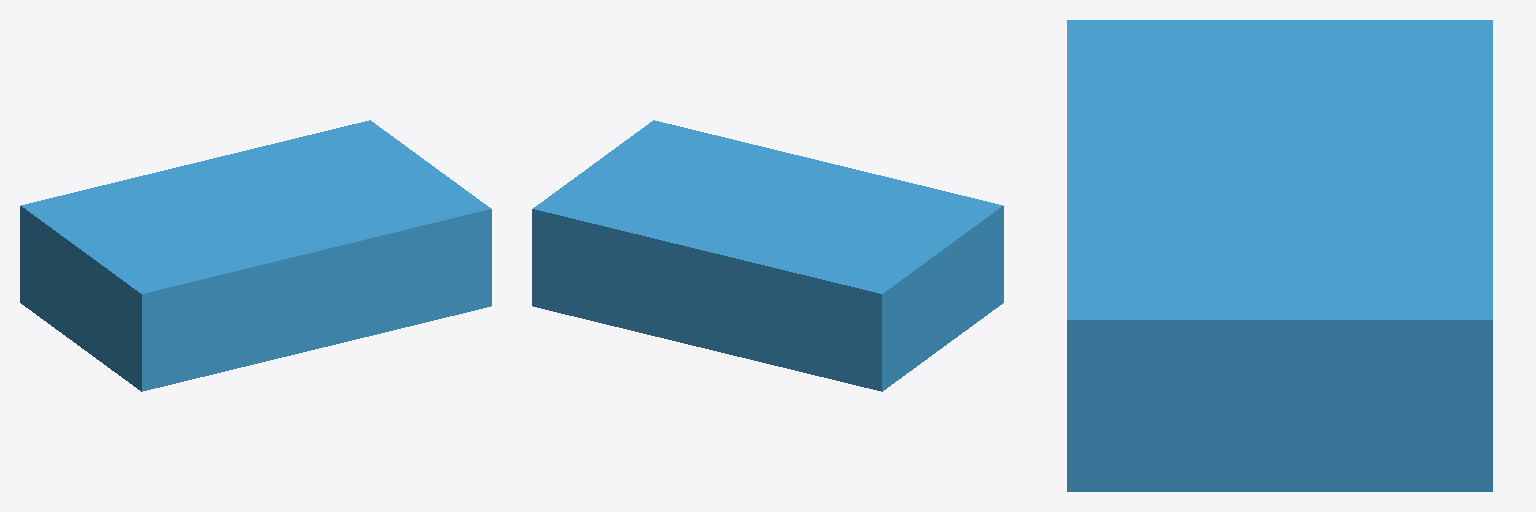
The robot description file, URDF, robot "ground_skeleton":
<?xml version="1.0"?>
<robot name="ground_skeleton">
    <link name="world" />
    <link name="ground_link">
        <inertial>
            <mass value="1.0" />
            <origin xyz="0.2 0 -0.2" rpy="0 0 0" />
            <inertia ixx="1.0" ixy="0" ixz="0" iyy="1.0" iyz="0" izz="1.0" />
        </inertial>
        <visual>
            <origin xyz="0.2 0 -0.2" rpy="0 -0 0" />
            <geometry>
                <mesh filename="./plane.obj"/>
            </geometry>
        </visual>
        <!-- <collision group="default">
            <origin xyz="0.2 0 -0.2" rpy="0 -0 0" />
            <geometry>
                <mesh filename="./plane.obj"/>
            </geometry>
        </collision> -->
    </link>
    <joint name="ground_joint" type="fixed">
        <origin xyz="0 0 0" rpy="0 0 0" />
        <parent link="world" />
        <child link="ground_link" />
    </joint>
</robot>

--- What the picture shows (computed from the rendered views, not written in the file) ---
The picture shows the robot from 3 angles, left to right: view 1: azimuth 30°, elevation 25°; view 2: azimuth 150°, elevation 25°; view 3: azimuth 270°, elevation 25°; orthographic projection.
Robot: ground_skeleton — 2 links, 1 joints (1 fixed); root link world; default pose: all joints at 0.
Links seen in each view (by area): view 1: ground_link; view 2: ground_link; view 3: ground_link.
Link boxes in pixels (x1,y1,x2,y2): ground_link: (20, 120, 491, 391); ground_link: (532, 120, 1003, 391); ground_link: (1067, 20, 1492, 491).
Size in the robot's own frame: 1.5 by 0.9 by 0.4 metres.
Meshes: 1 distinct files referenced, 1 mesh visuals loaded (1 OBJ).
